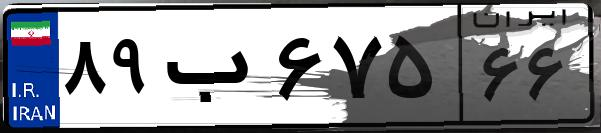5: (385, 28, 445, 110)
6: (270, 28, 330, 110), (475, 38, 525, 113), (525, 38, 570, 115)
7: (330, 28, 385, 110)
8: (57, 26, 110, 100)
9: (110, 28, 158, 98)
ب: (158, 20, 270, 120)
